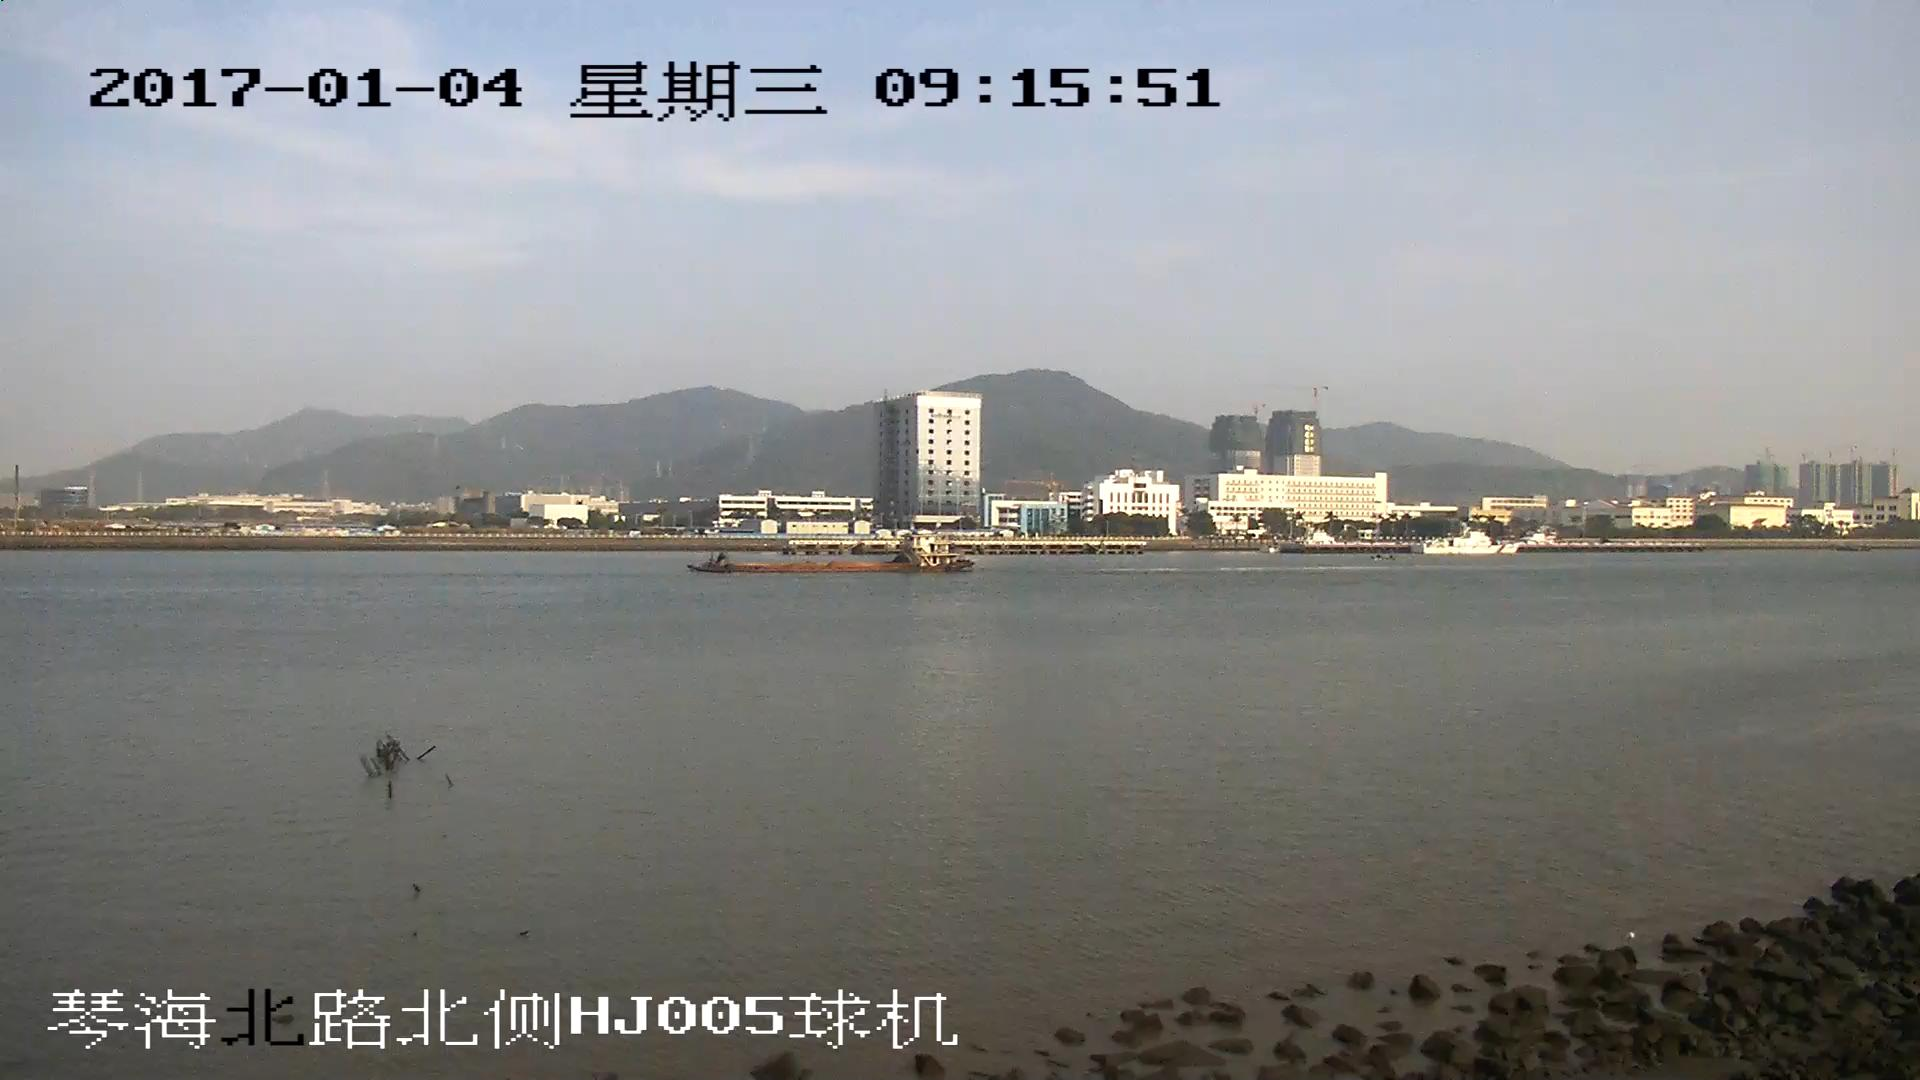ore carrier: (690, 535, 973, 574)
